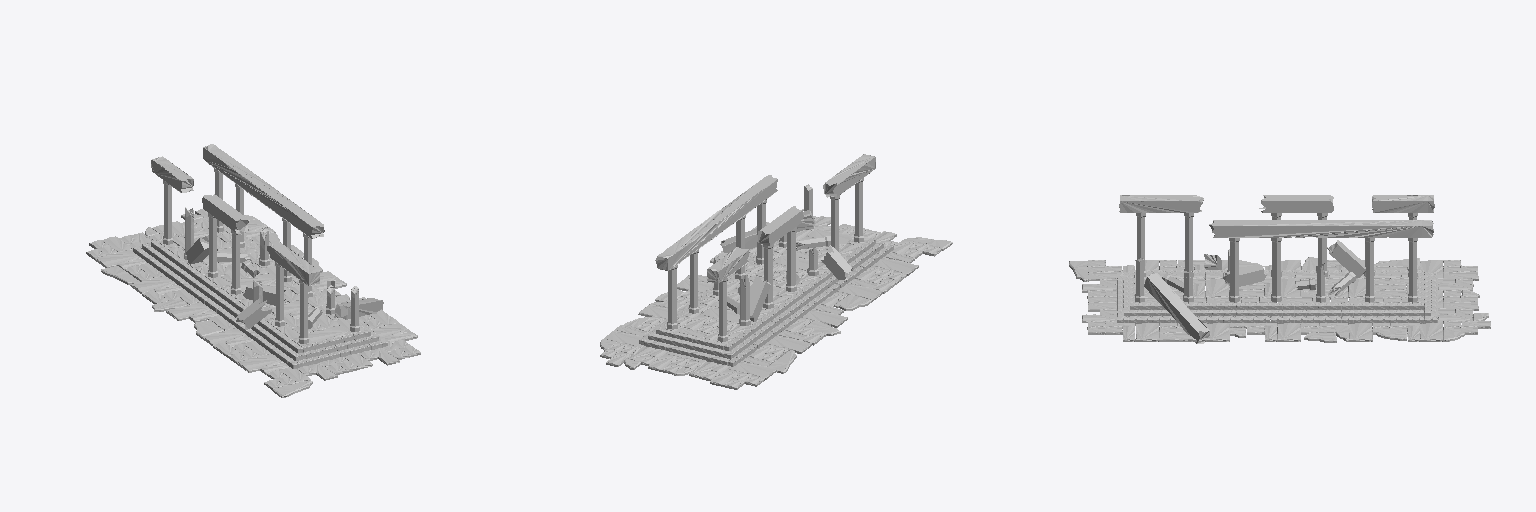
The model's file is pierre ele 3.obj.
The picture shows the model from 3 angles: view 1: azimuth 30°, elevation 25°; view 2: azimuth 150°, elevation 25°; view 3: azimuth 270°, elevation 25°; orthographic projection.
Parts seen in each view (by area): view 1: sol, poutre, brique, colonne; view 2: sol, poutre, brique, colonne; view 3: sol, poutre, brique, colonne.
Part boxes in pixels (x1,y1,x2,y2): sol: (86,209,420,397); poutre: (151,144,383,329); brique: (133,225,387,368); colonne: (163,168,359,343); sol: (600,216,952,389); poutre: (655,154,875,321); brique: (639,225,893,366); colonne: (667,178,863,341); sol: (1069,257,1490,342); poutre: (1119,195,1434,343); brique: (1117,270,1437,325); colonne: (1135,213,1417,302).
Bounding box in the file's own units: 9.92 × 5.17 × 20.66.